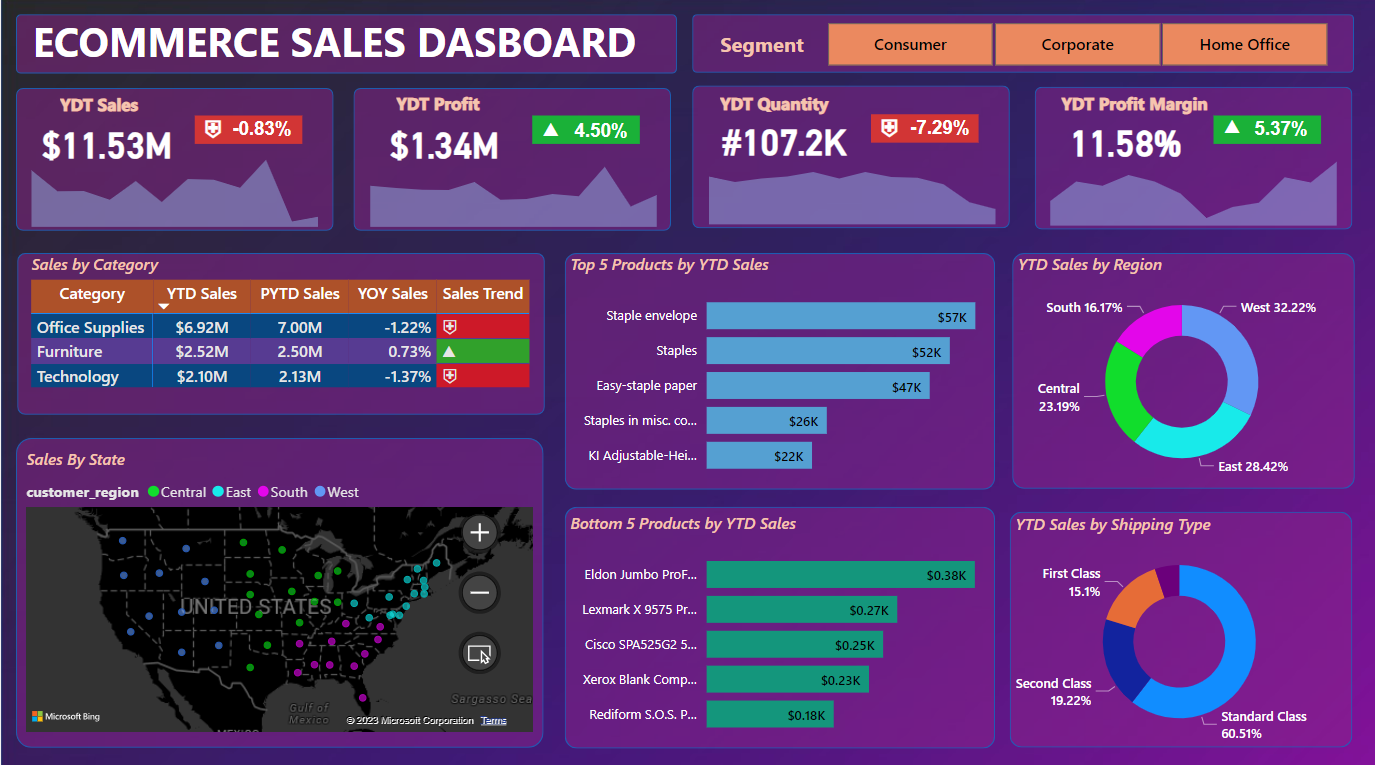

The page's visual inventory and layout, read from the dashboard file:
{"tool":"powerbi","page":{"name":"Page 1","canvas":[1280,720],"ordinal":0},"visuals":[{"type":"shape","box":[13.7,15.1,614.8,54.9],"z":0},{"type":"shape","box":[13.7,83.7,295,133.1],"z":1000},{"type":"textbox","box":[24.4,10.6,604.4,59.4],"z":2000},{"type":"shape","box":[15,237.5,490,150],"z":3000},{"type":"card","fields":{"Values":["ecommerce_data.YTD Sales"]},"box":[24.7,100.2,148.2,68.6],"z":4000},{"type":"areaChart","fields":{"Category":["Calender.Month"],"Y":["Sum(ecommerce_data.sales_per_order)"]},"box":[14.3,135.7,295.7,81.4],"z":5000},{"type":"shape","box":[179.8,109.8,100.2,26.1],"z":6000},{"type":"card","fields":{"Values":["ecommerce_data.YOY Sales"]},"box":[196.9,101.5,92.3,42.3],"z":7000},{"type":"card","fields":{"Values":["ecommerce_data.Sales Icon"]},"box":[169.2,102.3,55.4,42.3],"z":8000},{"type":"shape","box":[327.7,83.7,295,133.1],"z":9000},{"type":"card","fields":{"Values":["ecommerce_data.YTD Profit"]},"box":[338.7,100.2,148.2,68.6],"z":10000},{"type":"areaChart","fields":{"Category":["Calender.Month"],"Y":["Sum(ecommerce_data.profit_per_order)"]},"box":[328.3,135.7,295.7,81.4],"z":11000},{"type":"shape","box":[493.8,109.8,100.2,26.1],"z":12000},{"type":"card","fields":{"Values":["ecommerce_data.YOY Profit"]},"box":[510.9,103.6,92.7,41.8],"z":13000},{"type":"card","fields":{"Values":["ecommerce_data.Profit Icon"]},"box":[483.8,102.5,55,42.5],"z":14000},{"type":"textbox","box":[362.9,81.4,121.4,32.9],"z":15000},{"type":"shape","box":[642.7,81.7,295,133.1],"z":16000},{"type":"card","fields":{"Values":["ecommerce_data.YTD Concat Qty"]},"box":[653.7,98.2,148.2,68.6],"z":17000},{"type":"areaChart","fields":{"Category":["Calender.Month"],"Y":["Sum(ecommerce_data.order_quantity)"]},"box":[643.3,133.7,295.7,81.4],"z":18000},{"type":"shape","box":[808.8,107.8,100.2,26.1],"z":19000},{"type":"card","fields":{"Values":["ecommerce_data.YOY Qty"]},"box":[825.9,101.6,92.7,41.8],"z":20000},{"type":"card","fields":{"Values":["ecommerce_data.Qty Icon"]},"box":[798.8,101.2,55,42.5],"z":21000},{"type":"textbox","box":[663.8,81.2,138.8,33.8],"z":22000},{"type":"shape","box":[960.7,82.7,295,133.1],"z":23000},{"type":"card","fields":{"Values":["ecommerce_data.YTD Profit Margin"]},"box":[971.7,99.2,148.2,68.6],"z":24000},{"type":"areaChart","fields":{"Category":["Calender.Month"],"Y":["ecommerce_data.Profit Margin"]},"box":[961.3,134.7,295.7,81.4],"z":25000},{"type":"shape","box":[1126.8,108.8,100.2,26.1],"z":26000},{"type":"card","fields":{"Values":["ecommerce_data.YOY Profit Margin"]},"box":[1143.9,102.6,92.7,41.8],"z":27000},{"type":"card","fields":{"Values":["ecommerce_data.Profit Margin Icon"]},"box":[1116.2,100,55,42.5],"z":28000},{"type":"textbox","box":[981.2,81.2,162.5,35],"z":29000},{"type":"pivotTable","title":"Sales by Category","fields":{"Rows":["ecommerce_data.category_name"],"Values":["ecommerce_data.YTD Sales","ecommerce_data.PYTD Sales","ecommerce_data.YOY Sales","ecommerce_data.Sales Icon"]},"box":[23.3,237.2,473.3,150],"z":30000},{"type":"shape","box":[14,409.3,490.7,288.4],"z":31000},{"type":"shape","box":[524.4,237.2,400,220],"z":32000},{"type":"shape","box":[524.4,473.3,400,224.4],"z":33000},{"type":"barChart","title":"Top 5 Products by YTD Sales","fields":{"Category":["ecommerce_data.product_name"],"Y":["ecommerce_data.YTD Sales"]},"box":[524.2,237.4,399.3,219.6],"z":34000},{"type":"barChart","title":"Bottom 5 Products by YTD Sales","fields":{"Category":["ecommerce_data.product_name"],"Y":["ecommerce_data.YTD Sales"]},"box":[524.2,477.5,399.3,219.6],"z":35000},{"type":"shape","box":[940,237.4,318.4,219.6],"z":36000},{"type":"shape","box":[937.2,477.5,318.4,219.6],"z":37000},{"type":"donutChart","title":"YTD Sales by Region","fields":{"Category":["ecommerce_data.customer_region"],"Y":["ecommerce_data.YTD Sales"]},"box":[940,237.4,315.6,219.6],"z":38000},{"type":"donutChart","title":"YTD Sales by Shipping Type","fields":{"Y":["ecommerce_data.YTD Sales"],"Category":["ecommerce_data.shipping_type"]},"box":[937.2,478.9,315.6,219.6],"z":39000},{"type":"shape","box":[643,15.1,615.1,54.7],"z":40000},{"type":"slicer","fields":{"Values":["ecommerce_data.customer_segment"]},"box":[742.2,16.7,514.4,53.3],"z":41000},{"type":"textbox","box":[50,82.9,97.1,34.3],"z":42000},{"type":"shape","box":[656.7,25.6,152.2,35.6],"z":43000},{"type":"textbox","box":[663.3,25.6,116.7,35.6],"z":44000},{"type":"map","title":"Sales By State","fields":{"Y":["us_state_long_lat_codes.latitude"],"X":["us_state_long_lat_codes.longitude"],"Series":["ecommerce_data.customer_region"]},"box":[18.1,418.5,481.2,268.9],"z":44001}]}

Visuals, with their boxes in screenshot pixels (x1, y1, x2, y2), scaled from the page's 1280x720 canvas onto the 1375x765 screenshot:
shape: Rect(15, 16, 675, 74)
shape: Rect(15, 89, 332, 230)
textbox: Rect(26, 11, 675, 74)
shape: Rect(16, 252, 542, 412)
card - ecommerce_data.YTD Sales: Rect(27, 106, 186, 179)
areaChart - Calender.Month x Sum(ecommerce_data.sales_per_order): Rect(15, 144, 333, 231)
shape: Rect(193, 117, 301, 144)
card - ecommerce_data.YOY Sales: Rect(212, 108, 311, 153)
card - ecommerce_data.Sales Icon: Rect(182, 109, 241, 154)
shape: Rect(352, 89, 669, 230)
card - ecommerce_data.YTD Profit: Rect(364, 106, 523, 179)
areaChart - Calender.Month x Sum(ecommerce_data.profit_per_order): Rect(353, 144, 670, 231)
shape: Rect(530, 117, 638, 144)
card - ecommerce_data.YOY Profit: Rect(549, 110, 648, 154)
card - ecommerce_data.Profit Icon: Rect(520, 109, 579, 154)
textbox: Rect(390, 86, 520, 121)
shape: Rect(690, 87, 1007, 228)
card - ecommerce_data.YTD Concat Qty: Rect(702, 104, 861, 177)
areaChart - Calender.Month x Sum(ecommerce_data.order_quantity): Rect(691, 142, 1009, 229)
shape: Rect(869, 115, 976, 142)
card - ecommerce_data.YOY Qty: Rect(887, 108, 987, 152)
card - ecommerce_data.Qty Icon: Rect(858, 108, 917, 153)
textbox: Rect(713, 86, 862, 122)
shape: Rect(1032, 88, 1349, 229)
card - ecommerce_data.YTD Profit Margin: Rect(1044, 105, 1203, 178)
areaChart - Calender.Month x ecommerce_data.Profit Margin: Rect(1033, 143, 1350, 230)
shape: Rect(1210, 116, 1318, 143)
card - ecommerce_data.YOY Profit Margin: Rect(1229, 109, 1328, 153)
card - ecommerce_data.Profit Margin Icon: Rect(1199, 106, 1258, 151)
textbox: Rect(1054, 86, 1229, 123)
"Sales by Category" pivotTable: Rect(25, 252, 533, 411)
shape: Rect(15, 435, 542, 741)
shape: Rect(563, 252, 993, 486)
shape: Rect(563, 503, 993, 741)
"Top 5 Products by YTD Sales" barChart: Rect(563, 252, 992, 486)
"Bottom 5 Products by YTD Sales" barChart: Rect(563, 507, 992, 741)
shape: Rect(1010, 252, 1352, 486)
shape: Rect(1007, 507, 1349, 741)
"YTD Sales by Region" donutChart: Rect(1010, 252, 1349, 486)
"YTD Sales by Shipping Type" donutChart: Rect(1007, 509, 1346, 742)
shape: Rect(691, 16, 1351, 74)
slicer - ecommerce_data.customer_segment: Rect(797, 18, 1350, 74)
textbox: Rect(54, 88, 158, 125)
shape: Rect(705, 27, 869, 65)
textbox: Rect(713, 27, 838, 65)
"Sales By State" map: Rect(19, 445, 536, 730)
